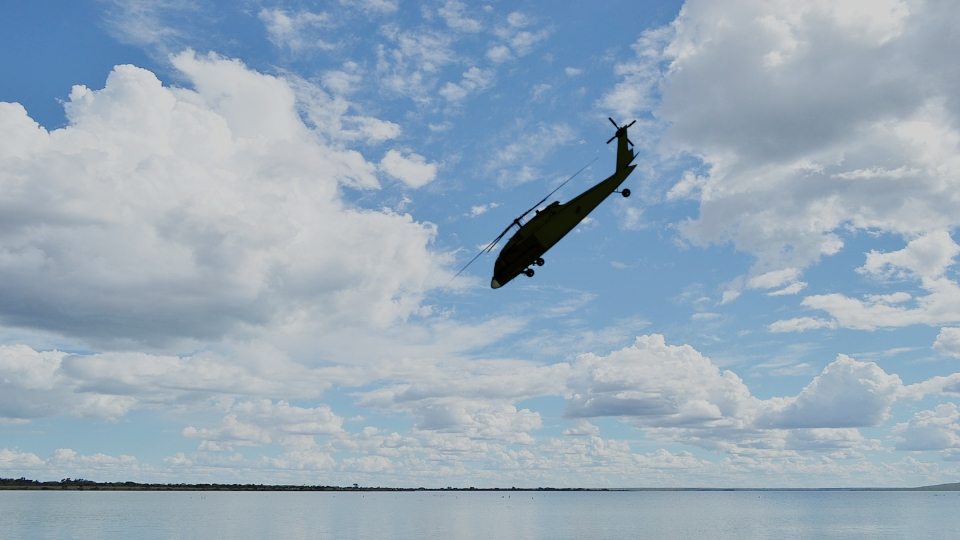heli: (448, 115, 639, 288)
